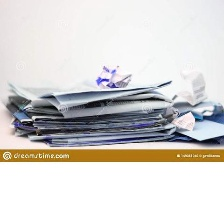news_paper: (0, 77, 177, 148)
